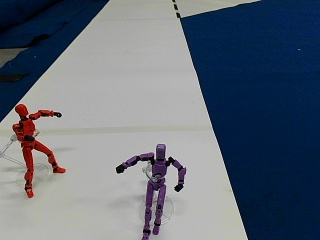pedestrian: (114, 144, 185, 235), (12, 104, 64, 194)
